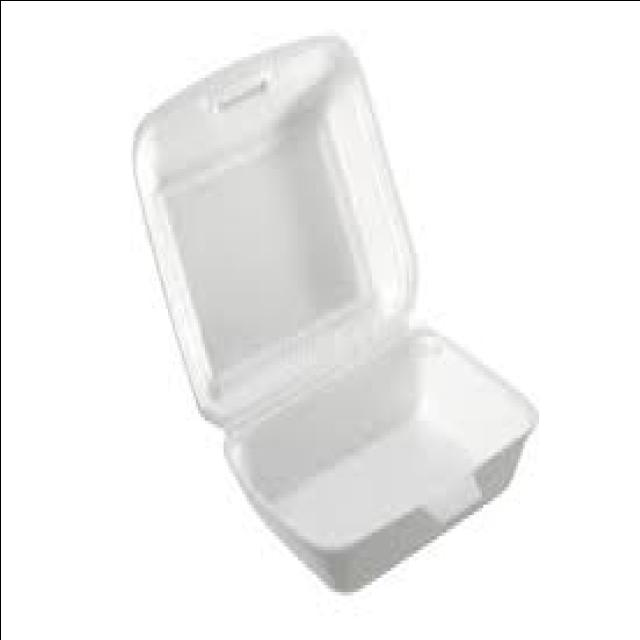styrofoam: (134, 38, 414, 425)
